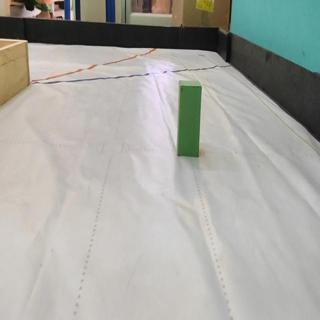greenbox: (177, 79, 203, 158)
